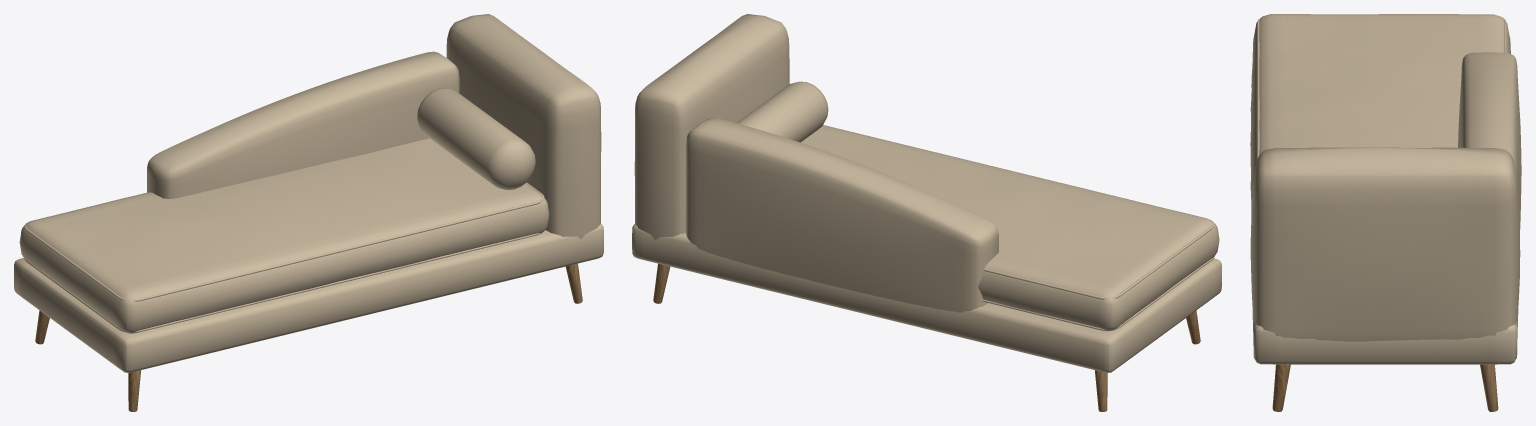
The model's file is meridiana_derecha.glb.
3 views of the same model, side by side, from view 1: azimuth 30°, elevation 25°; view 2: azimuth 150°, elevation 25°; view 3: azimuth 270°, elevation 25° (orthographic). The views are drawn at different scales.
Parts seen in each view (by area): view 1: meridiana_derecha; view 2: meridiana_derecha; view 3: meridiana_derecha.
Boxes of the visible parts, box(x1,y1,x2,y2) form: meridiana_derecha: box(14, 14, 603, 411); meridiana_derecha: box(632, 14, 1221, 411); meridiana_derecha: box(1250, 14, 1521, 411).
Bounding box in the file's own units: 1.87 × 0.8211 × 0.7808.
Materials: 2 (2 with a texture image).
